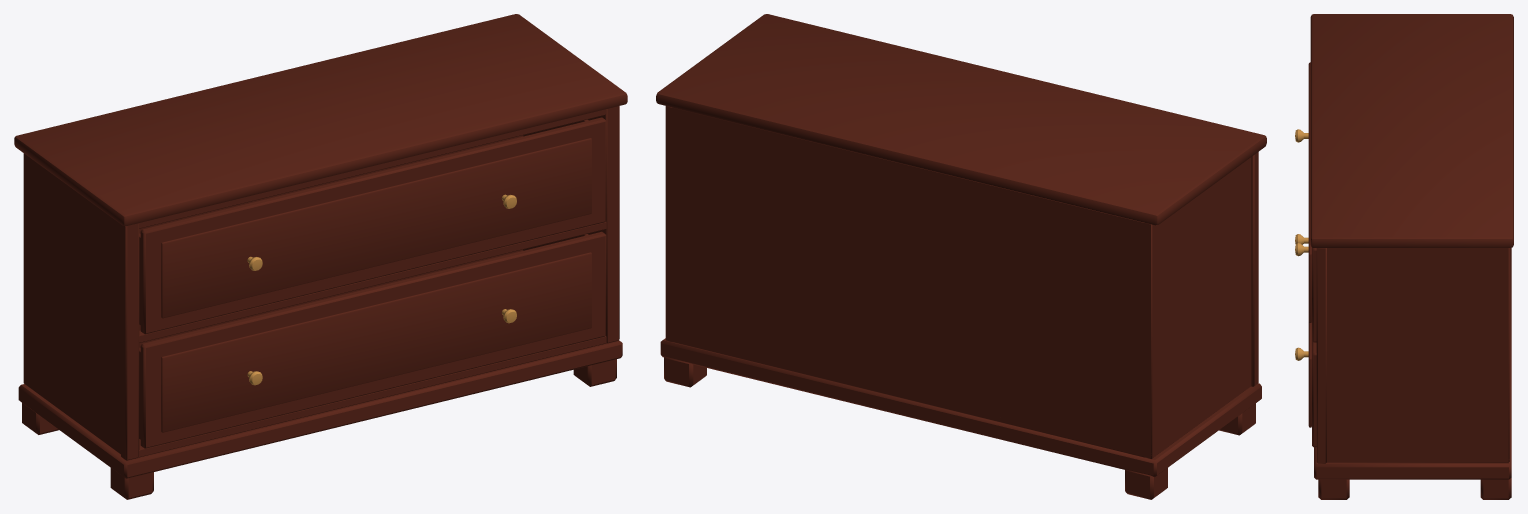
Rendered from Dresser.glb.
3 views of the same model, side by side, from view 1: azimuth 30°, elevation 25°; view 2: azimuth 150°, elevation 25°; view 3: azimuth 270°, elevation 25° (orthographic). The views are drawn at different scales.
Visible parts, largest first — view 1: Dresser_Body, Dresser_Drawer2, Dresser_Drawer1; view 2: Dresser_Body; view 3: Dresser_Body, Dresser_Drawer1, Dresser_Drawer2, Dresser_Drawer1_Knobs, Dresser_Drawer2_Knobs.
Part boxes in pixels (<box>): Dresser_Body: <box>14,14,627,499</box>; Dresser_Drawer2: <box>139,231,606,448</box>; Dresser_Drawer1: <box>139,117,606,334</box>; Dresser_Body: <box>656,14,1266,499</box>; Dresser_Body: <box>1310,14,1513,499</box>; Dresser_Drawer1: <box>1308,62,1316,342</box>; Dresser_Drawer2: <box>1308,322,1316,447</box>; Dresser_Drawer1_Knobs: <box>1295,129,1308,256</box>; Dresser_Drawer2_Knobs: <box>1295,234,1308,360</box>.
Size of the model in its own units: 1.55 by 0.85 by 0.635.
